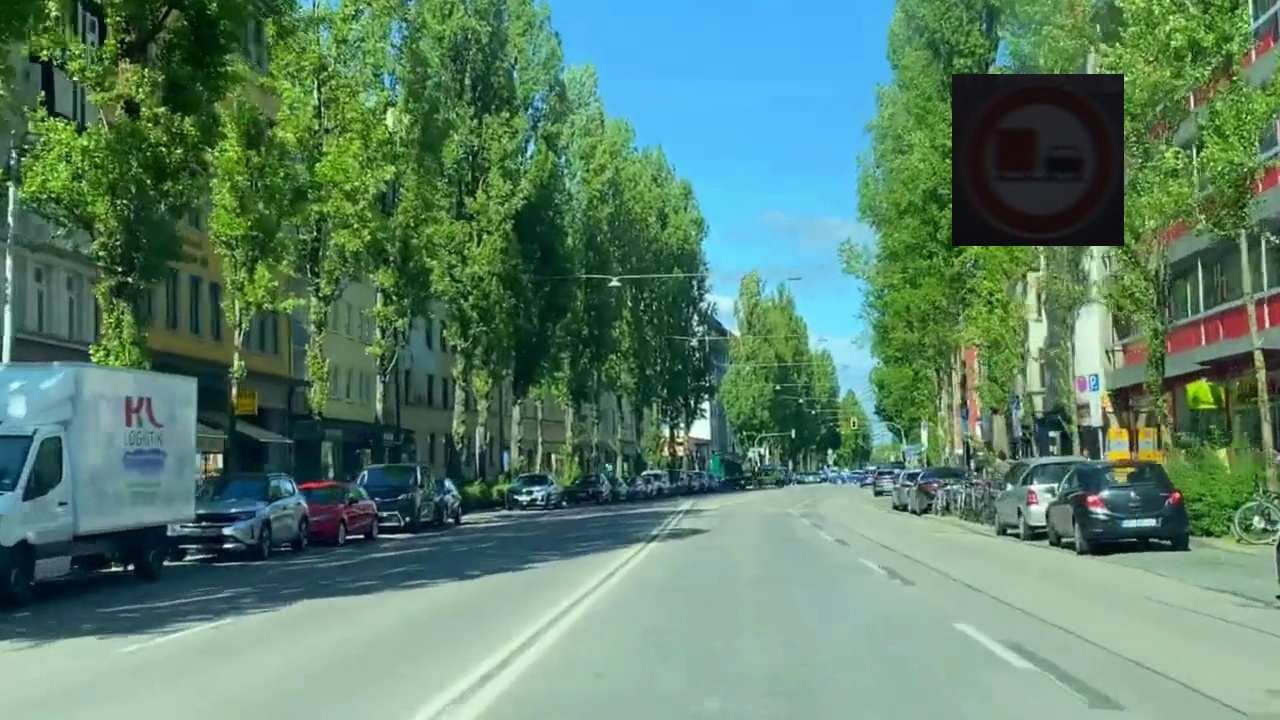No pass >3.5t: (952, 74, 1124, 246)
